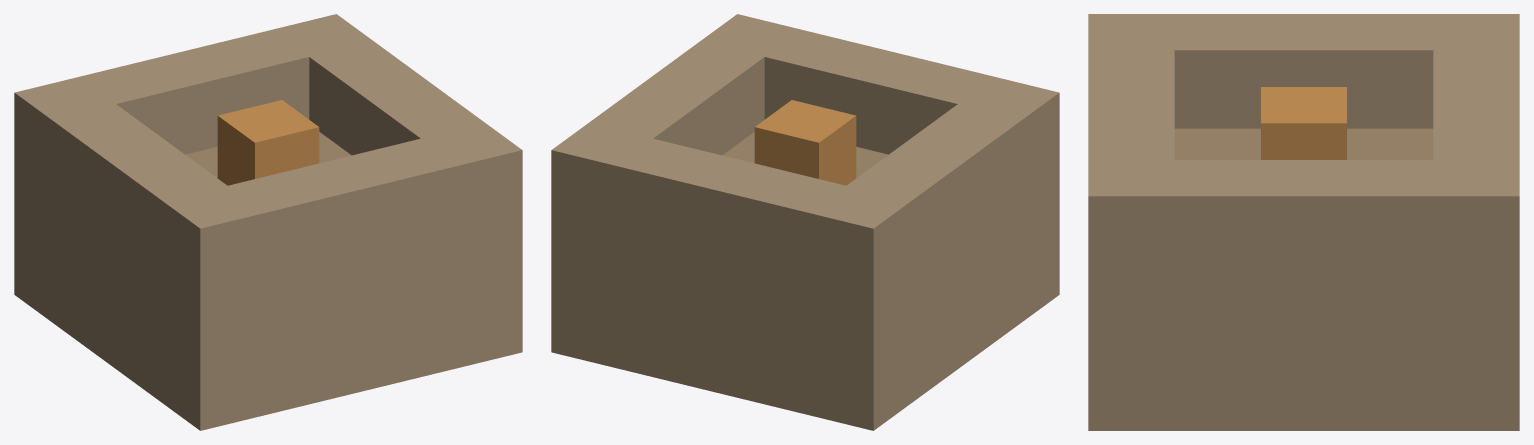
Rendered from Prop_Farm_Compost_Bin.fbx.
3 renders of one model, left to right at view 1: azimuth 30°, elevation 25°; view 2: azimuth 150°, elevation 25°; view 3: azimuth 270°, elevation 25°, orthographic. The views are drawn at different scales.
Parts seen in each view (by area): view 1: Prop_Farm_Compost_Bin; view 2: Prop_Farm_Compost_Bin; view 3: Prop_Farm_Compost_Bin.
Boxes of the visible parts, x1,y1,x2,y2 form: Prop_Farm_Compost_Bin: (14,14,522,430); Prop_Farm_Compost_Bin: (551,14,1059,430); Prop_Farm_Compost_Bin: (1088,14,1519,430).
Size of the model in its own units: 50 by 50 by 30.
